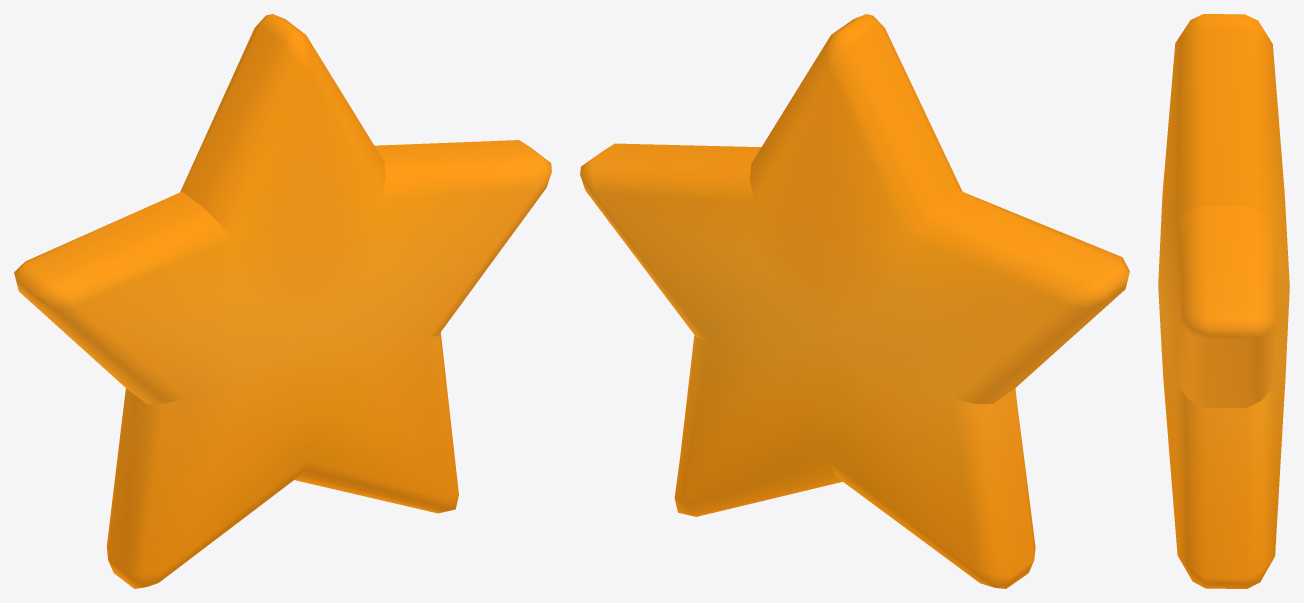
Rendered from star_002.glb.
The picture shows the model from 3 angles, left to right: view 1: azimuth 30°, elevation 25°; view 2: azimuth 150°, elevation 25°; view 3: azimuth 270°, elevation 25°; orthographic projection. The views are drawn at different scales.
Visible parts, largest first — view 1: star_002; view 2: star_002; view 3: star_002.
Boxes of the visible parts, x1,y1,x2,y2 form: star_002: [14, 14, 551, 588]; star_002: [580, 14, 1129, 588]; star_002: [1158, 14, 1289, 588].
Bounding box in the file's own units: 1.19 × 1.13 × 0.2707.
1 material, 1 textured.
